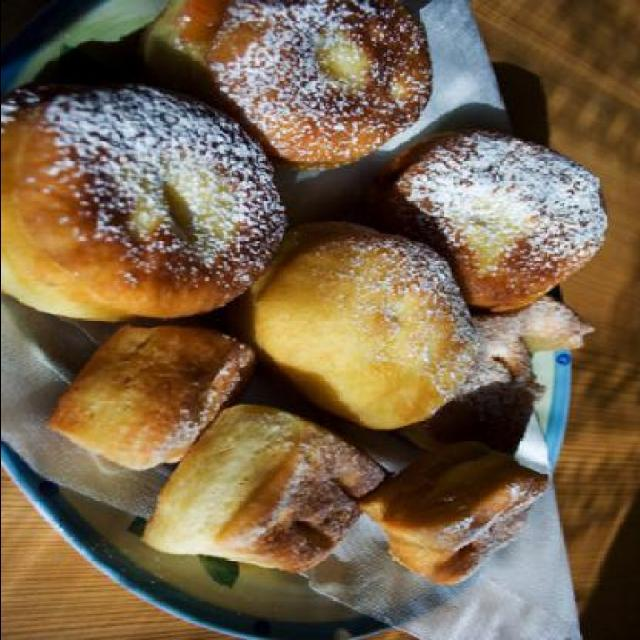Donuts: (2, 6, 606, 620)
